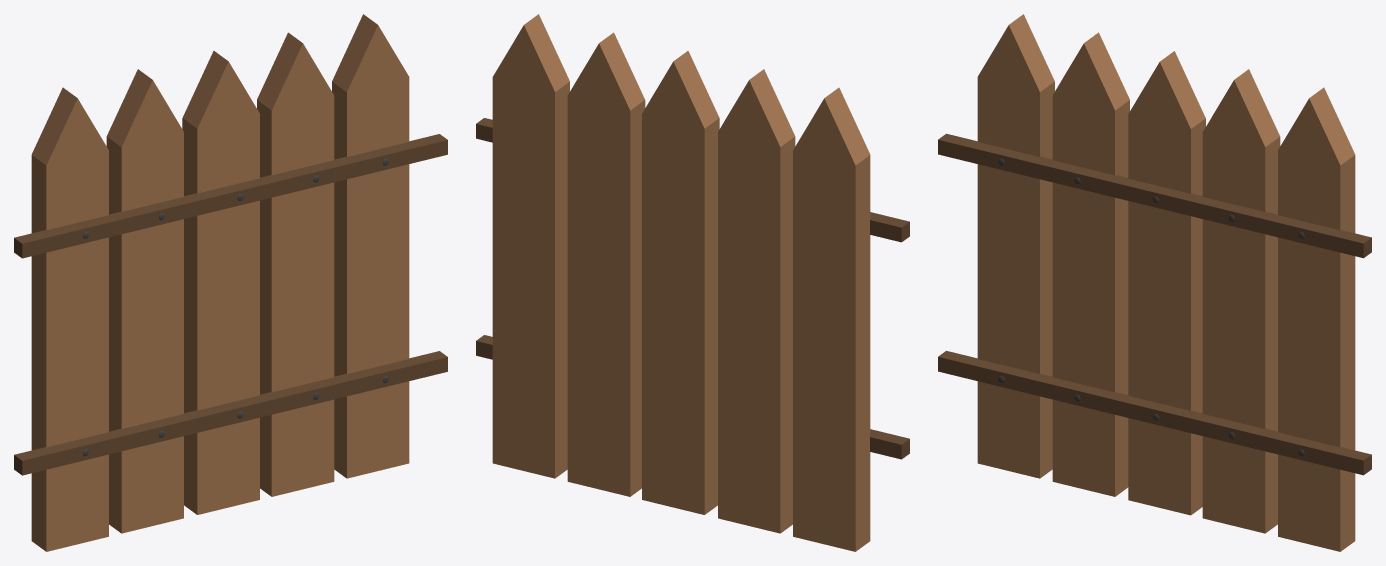
The model's file is woodenFenceHigh.fbx.
3 renders of one model, left to right at view 1: azimuth 30°, elevation 25°; view 2: azimuth 150°, elevation 25°; view 3: azimuth 330°, elevation 25°, orthographic.
Parts seen in each view (by area): view 1: fence; view 2: fence; view 3: fence.
Boxes of the visible parts, x1,y1,x2,y2 form: fence: (14, 14, 447, 551); fence: (476, 14, 909, 551); fence: (938, 14, 1371, 551).
Size of the model in its own units: 99.85 by 100 by 9.38.
